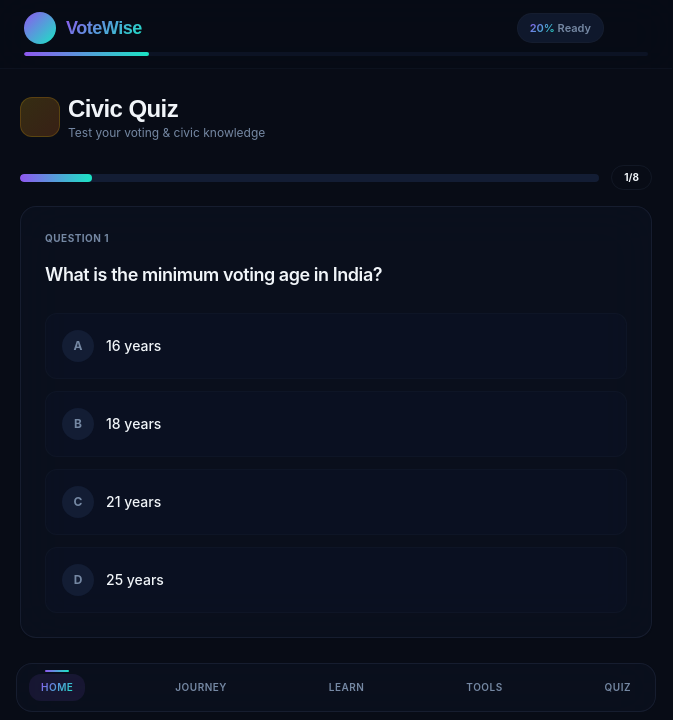
QuizPage › should show Next Question button after answering
Click the text "18 years" at point(134, 424), box x1=106 y1=414 x2=161 y2=434
(page scrolled)
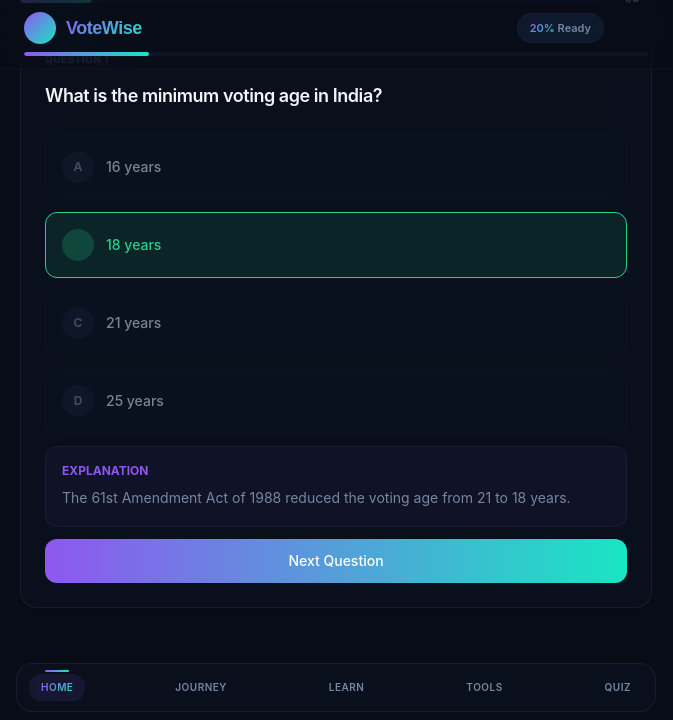
Now the button "Next Question" is shown, box x1=45 y1=539 x2=627 y2=583
